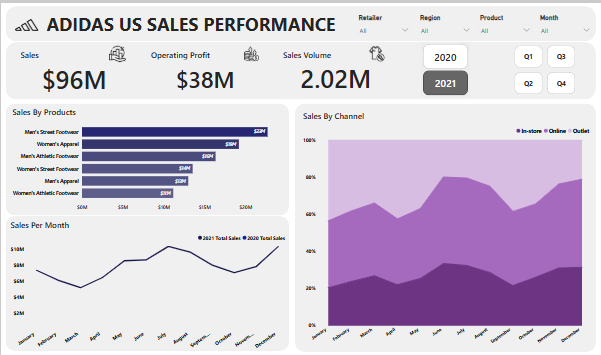

This screenshot's page, from the dashboard's own definition file:
{"tool":"powerbi","page":{"name":"1","canvas":[1600,940],"ordinal":0},"visuals":[{"type":"shape","box":[11.5,569,756.7,360.2],"z":0},{"type":"shape","box":[11.4,106,1574.8,153.3],"z":1000},{"type":"card","title":"Sales","fields":{"Values":["Sum(Sales.total_sales)"]},"box":[31,113.8,325.9,146.6],"z":2000},{"type":"shape","box":[11.5,266.3,756.7,298.9],"z":3000},{"type":"image","box":[259.3,107.9,100.3,54.9],"z":4000},{"type":"barChart","title":"Sales By Products","fields":{"Category":["Sales.Product"],"Y":["Sum(Sales.total_sales)"]},"box":[19.2,277.8,749.1,287.4],"z":5000},{"type":"shape","box":[783.6,266.3,802.7,662.9],"z":6000},{"type":"hundredPercentStackedAreaChart","title":"Sales By Channel","fields":{"Y":["Sum(Sales.total_sales)"],"Series":["Sales.sales_method"],"Category":["Sales.invoice_date.Variation.Date Hierarchy.Month"]},"box":[789.3,270.1,785.5,651.4],"z":7000},{"type":"image","box":[617,107.9,104.1,54.9],"z":8000},{"type":"advancedSlicerVisual","fields":{"Values":["Sales.Short_Quarter"]},"box":[1364.7,109.8,172.2,140.1],"z":9000},{"type":"lineChart","title":"Sales Per Month","fields":{"Category":["Sales.invoice_date.Variation.Date Hierarchy.Month"],"Y":["Sales.2021 Total Sales","Sales.2020 Total Sales"]},"box":[21.1,572.8,747.2,360.2],"z":10000},{"type":"card","title":"Operating Profit","fields":{"Values":["Sum(Sales.operating_profit)"]},"box":[378.6,111.7,327.4,147.6],"z":11000},{"type":"card","title":"Sales Volume","fields":{"Values":["Sum(Sales.units_sold)"]},"box":[730.6,111.7,321.8,143.8],"z":12000},{"type":"image","box":[952.1,109.8,100.3,54.9],"z":13000},{"type":"advancedSlicerVisual","fields":{"Values":["Sales.invoice_date.Variation.Date Hierarchy.Year"]},"box":[1120.5,106,130.6,147.6],"z":14000},{"type":"shape","box":[11.4,7.6,1574.8,94.6],"z":15000},{"type":"textbox","box":[115.5,15.5,789.7,84.5],"z":16000},{"type":"image","box":[31,6.9,72.4,100],"z":17000},{"type":"slicer","fields":{"Values":["Region.region"]},"box":[1102.1,23.4,161.4,63.7],"z":18000},{"type":"slicer","fields":{"Values":["Products.product"]},"box":[1263.5,23.4,161.4,63.7],"z":19000},{"type":"slicer","fields":{"Values":["Sales.invoice_date.Variation.Date Hierarchy.Month"]},"box":[1424.9,23.4,161.4,63.7],"z":20000},{"type":"slicer","fields":{"Values":["Retailers.retailer"]},"box":[940.7,23.4,161.4,63.7],"z":21000}]}

Visuals, with their boxes in screenshot pixels (x1, y1, x2, y2), scaled from the page's 1600x940 canvas onto the 601x355 screenshot:
shape: <box>4,215,289,351</box>
shape: <box>4,40,596,98</box>
"Sales" card: <box>12,43,134,98</box>
shape: <box>4,101,289,213</box>
image: <box>97,41,135,61</box>
"Sales By Products" barChart: <box>7,105,289,213</box>
shape: <box>294,101,596,351</box>
"Sales By Channel" hundredPercentStackedAreaChart: <box>296,102,592,348</box>
image: <box>232,41,271,61</box>
advancedSlicerVisual - Sales.Short_Quarter: <box>513,41,577,94</box>
"Sales Per Month" lineChart: <box>8,216,289,352</box>
"Operating Profit" card: <box>142,42,265,98</box>
"Sales Volume" card: <box>274,42,395,96</box>
image: <box>358,41,395,62</box>
advancedSlicerVisual - Sales.invoice_date.Variation.Date Hierarchy.Year: <box>421,40,470,96</box>
shape: <box>4,3,596,39</box>
textbox: <box>43,6,340,38</box>
image: <box>12,3,39,40</box>
slicer - Region.region: <box>414,9,475,33</box>
slicer - Products.product: <box>475,9,535,33</box>
slicer - Sales.invoice_date.Variation.Date Hierarchy.Month: <box>535,9,596,33</box>
slicer - Retailers.retailer: <box>353,9,414,33</box>
